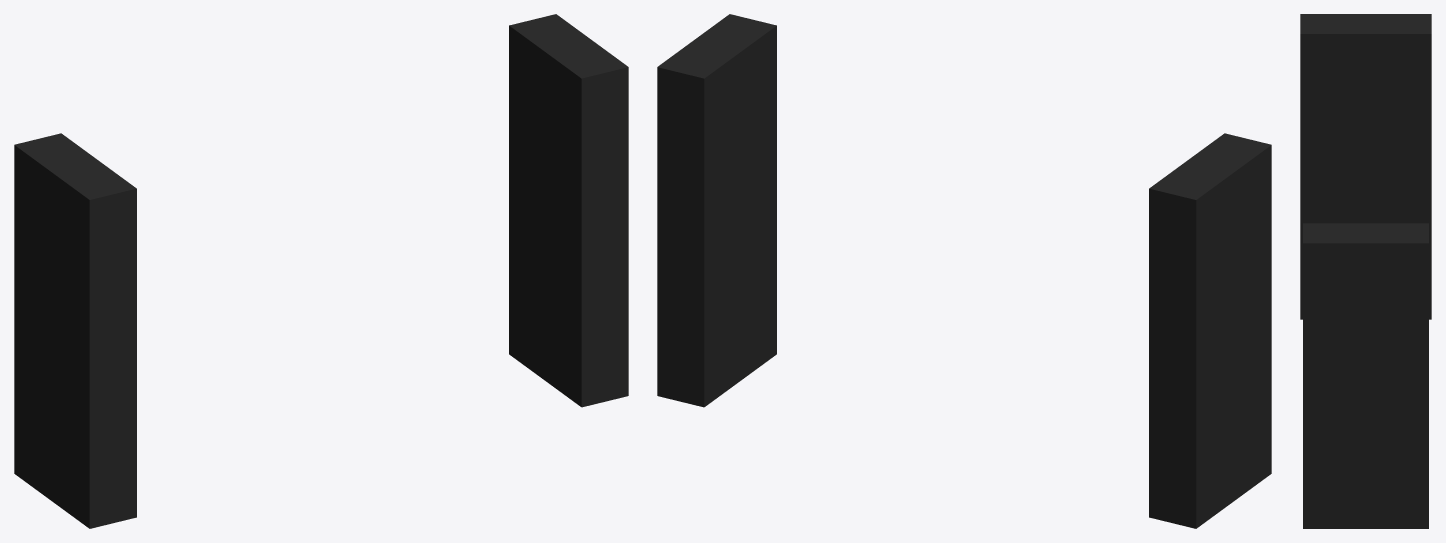
The model's file is Static_0_5friction.fbx.
3 views of the same model, side by side, from view 1: azimuth 30°, elevation 25°; view 2: azimuth 150°, elevation 25°; view 3: azimuth 270°, elevation 25° (orthographic). The views are drawn at different scales.
Visible parts, largest first — view 1: S1StaticBox2, S1StaticBox1; view 2: S1StaticBox2, S1StaticBox1; view 3: S1StaticBox1, S1StaticBox2.
Part boxes in pixels (x1=…): S1StaticBox2: x1=14, y1=133, x2=136, y2=528; S1StaticBox1: x1=509, y1=14, x2=628, y2=407; S1StaticBox2: x1=1149, y1=133, x2=1271, y2=528; S1StaticBox1: x1=657, y1=14, x2=776, y2=407; S1StaticBox1: x1=1303, y1=223, x2=1428, y2=528; S1StaticBox2: x1=1300, y1=14, x2=1431, y2=319.
Size of what is drawn, in the model's own units: 34.4 by 20 by 8.33.
